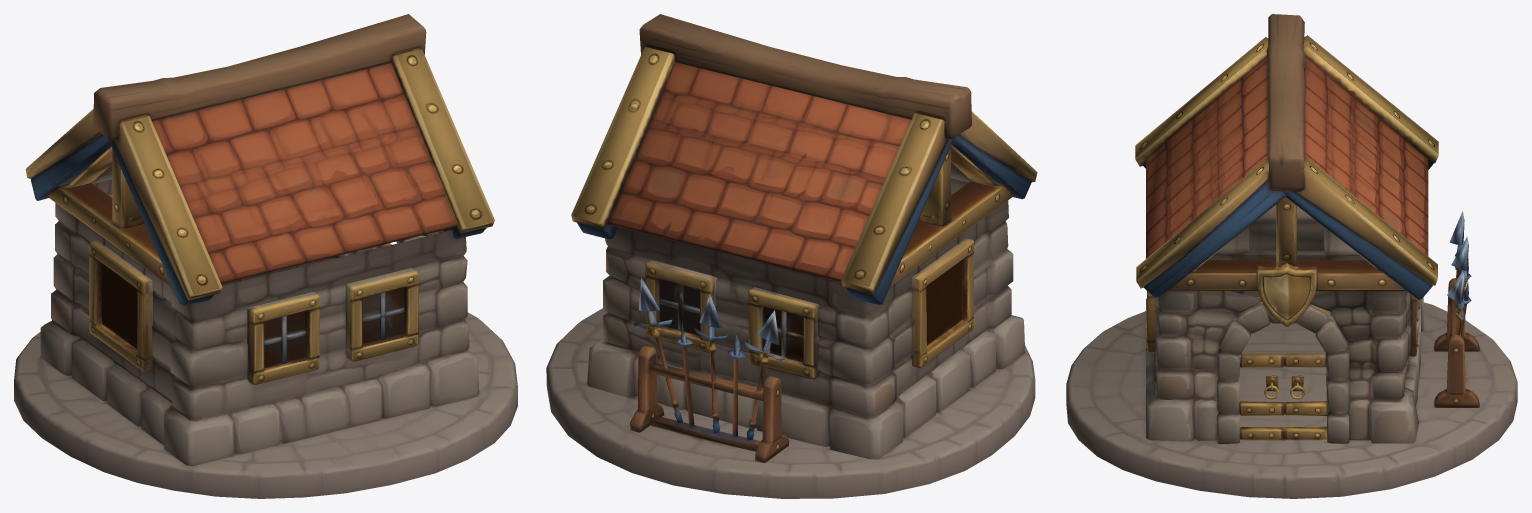
The model's file is outpost_barracks_tripo.glb.
3 renders of one model, left to right at view 1: azimuth 30°, elevation 25°; view 2: azimuth 150°, elevation 25°; view 3: azimuth 270°, elevation 25°, orthographic. The views are drawn at different scales.
Parts seen in each view (by area): view 1: tripo_node_a6b602fa-8c8d-47ab-9042-b7bf8199857d; view 2: tripo_node_a6b602fa-8c8d-47ab-9042-b7bf8199857d; view 3: tripo_node_a6b602fa-8c8d-47ab-9042-b7bf8199857d.
Boxes of the visible parts, x1,y1,x2,y2 form: tripo_node_a6b602fa-8c8d-47ab-9042-b7bf8199857d: [14, 14, 517, 498]; tripo_node_a6b602fa-8c8d-47ab-9042-b7bf8199857d: [546, 14, 1037, 498]; tripo_node_a6b602fa-8c8d-47ab-9042-b7bf8199857d: [1066, 14, 1517, 498].
Size of the model in its own units: 0.998 by 0.7637 by 0.9941.
Materials: 1 (1 with a texture image).
